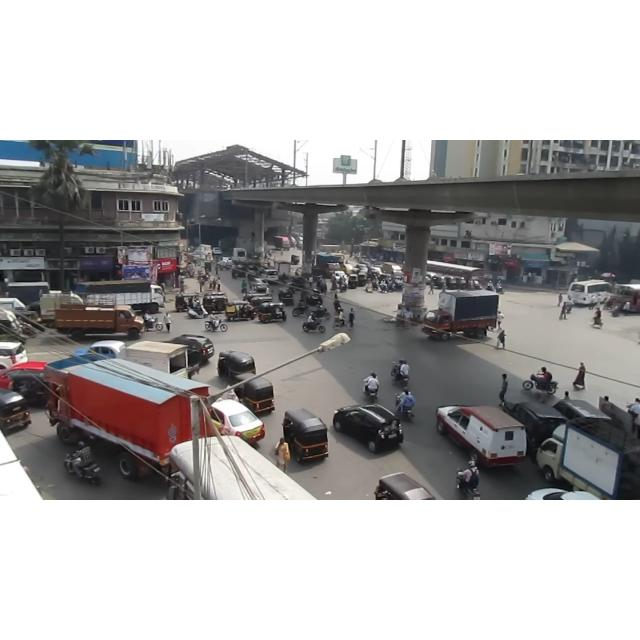auto: (283, 407, 335, 469), (234, 373, 278, 418), (0, 384, 33, 432), (216, 346, 258, 383), (226, 298, 257, 322), (258, 302, 290, 325), (176, 293, 204, 314), (206, 293, 232, 314), (290, 255, 302, 268)
truck: (38, 353, 211, 481), (528, 416, 640, 500), (418, 288, 507, 342), (52, 302, 152, 341), (69, 280, 175, 313), (273, 231, 295, 253), (232, 244, 248, 264)
